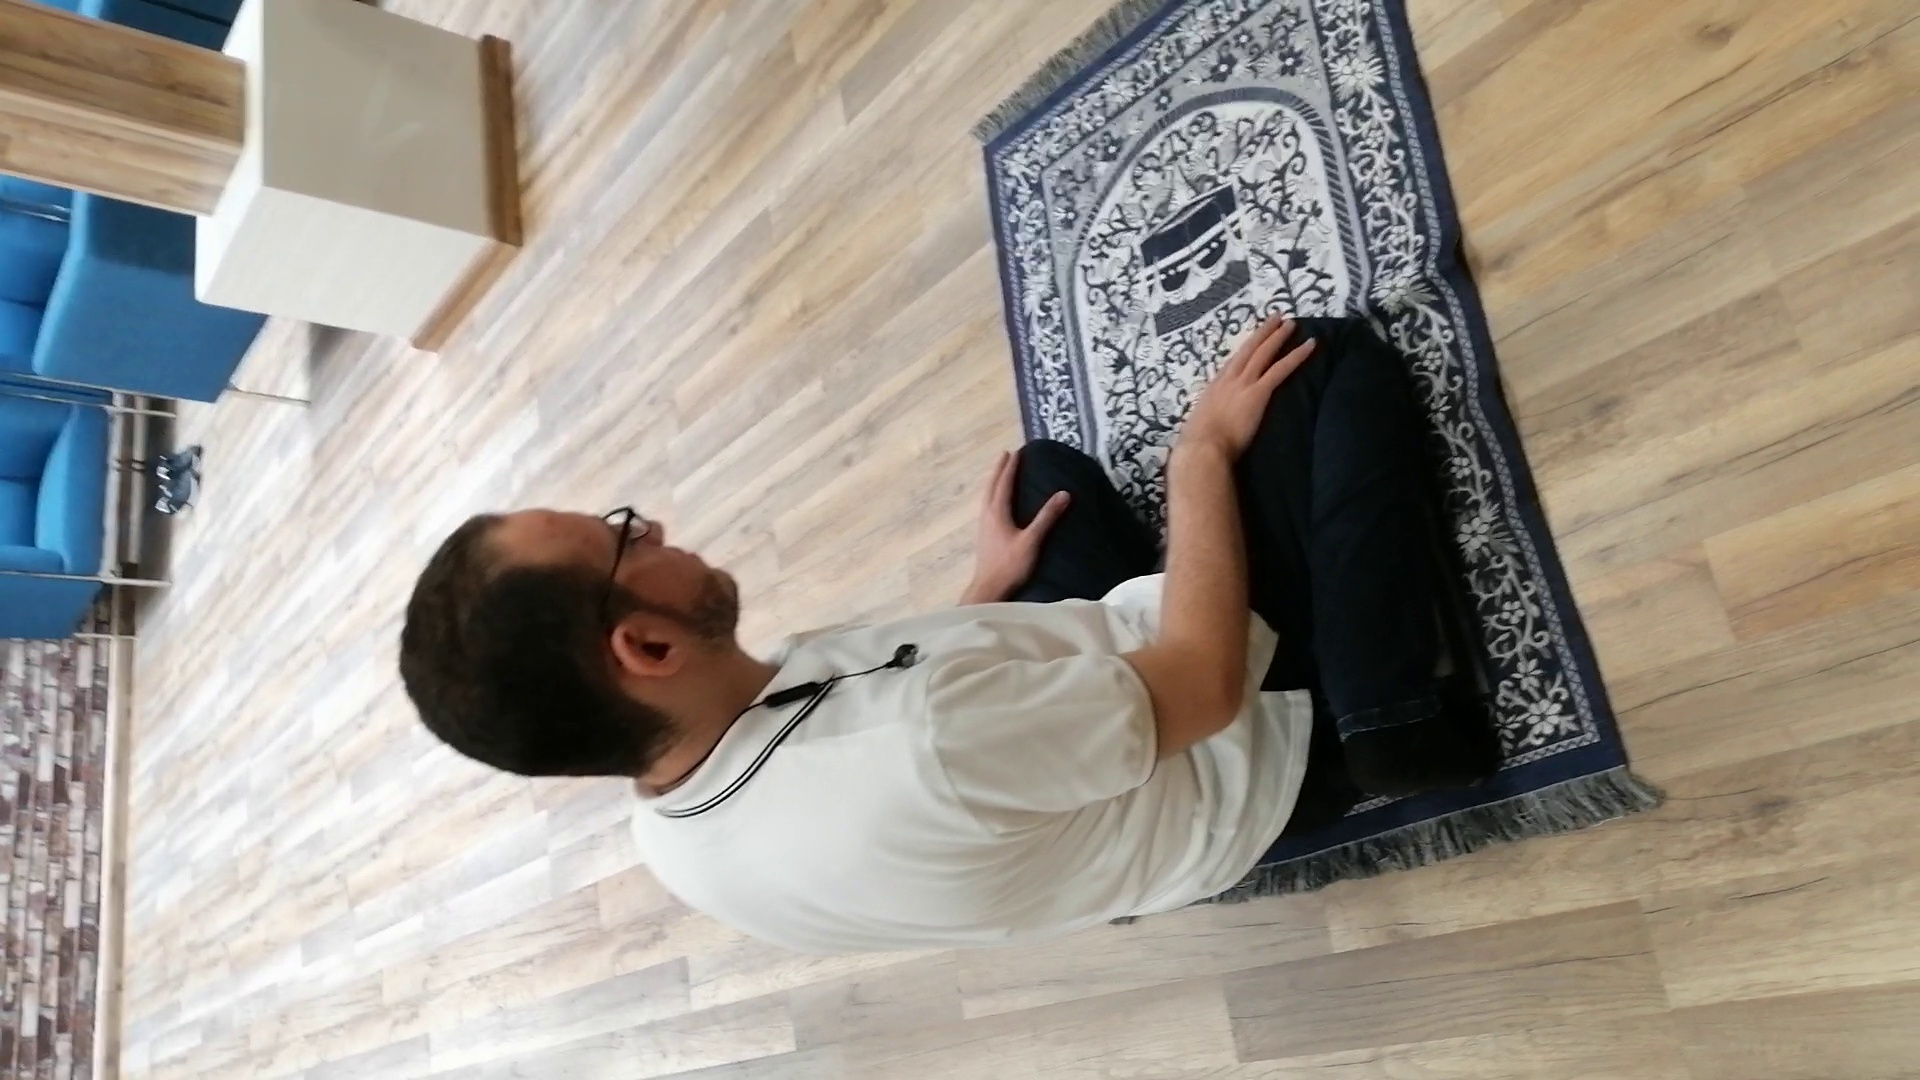sitting: (386, 294, 1516, 964)
